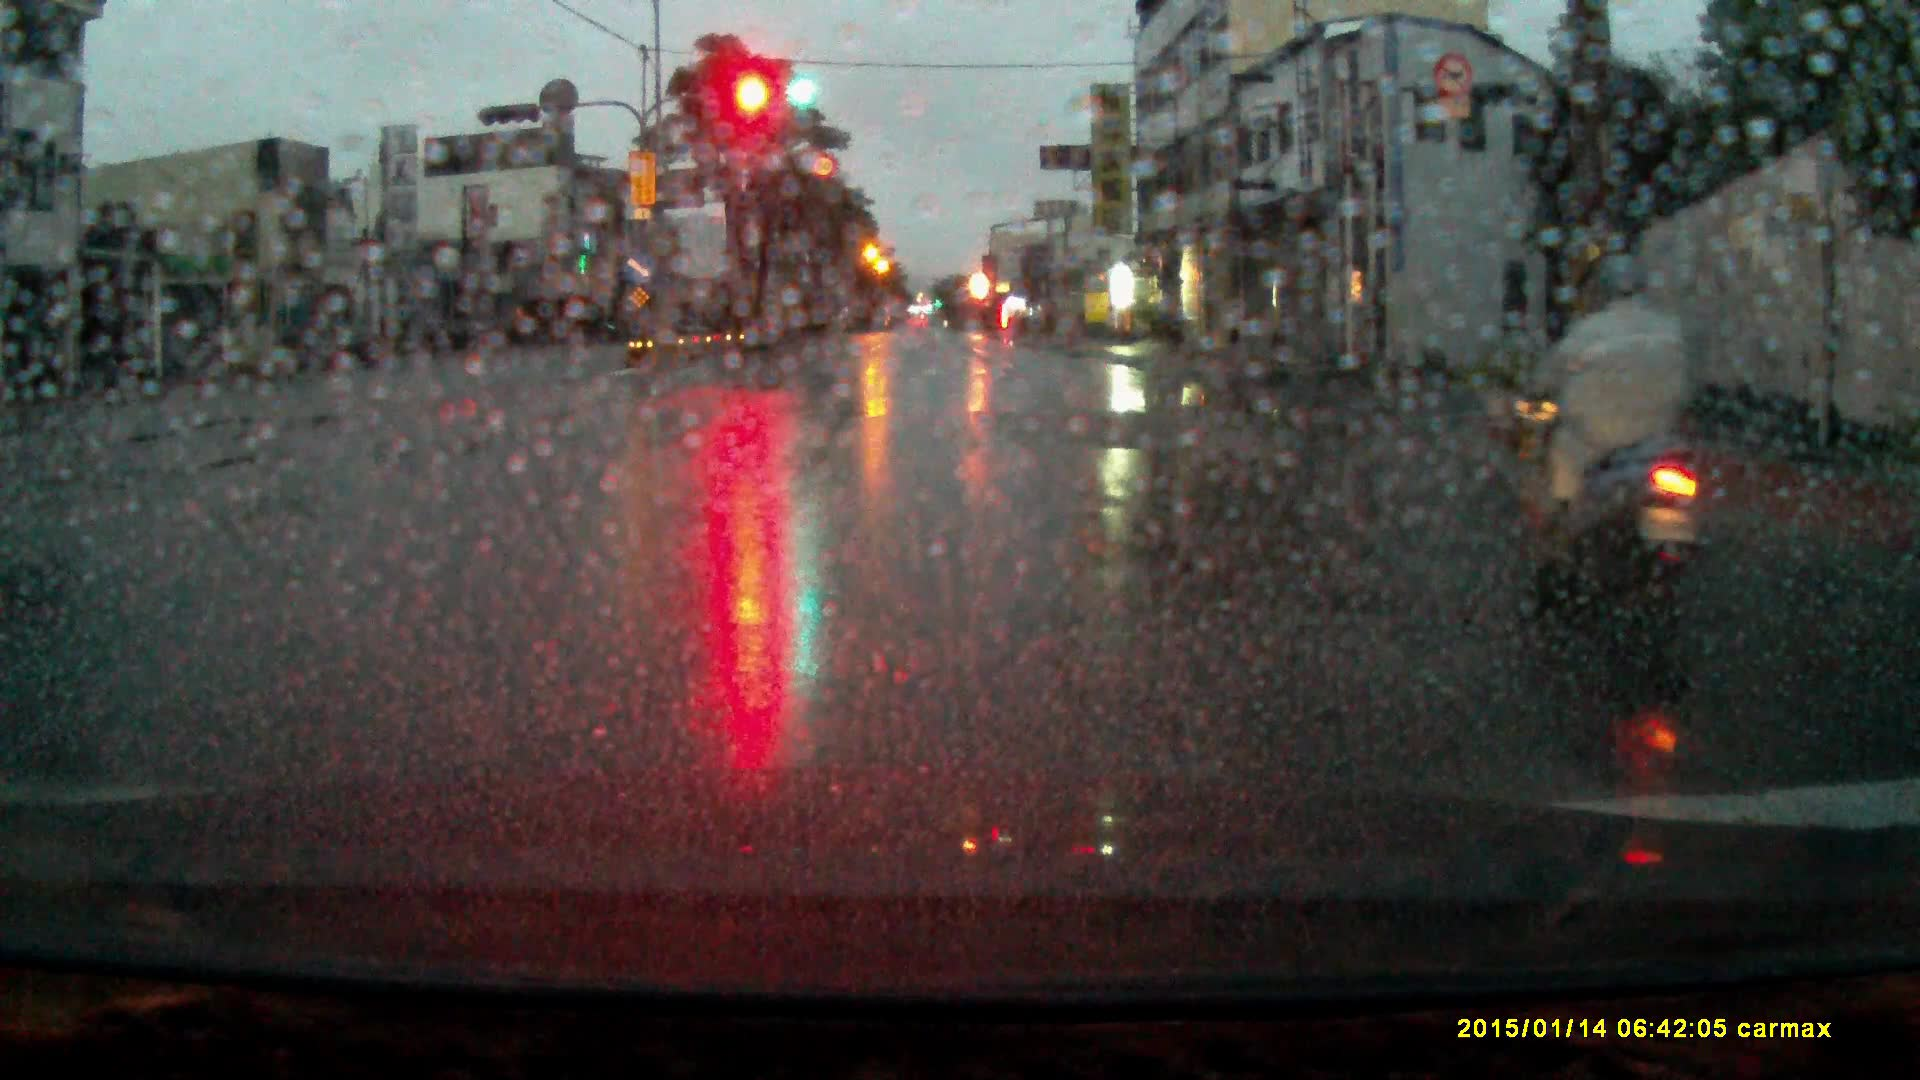rider: (1504, 249, 1722, 637)
